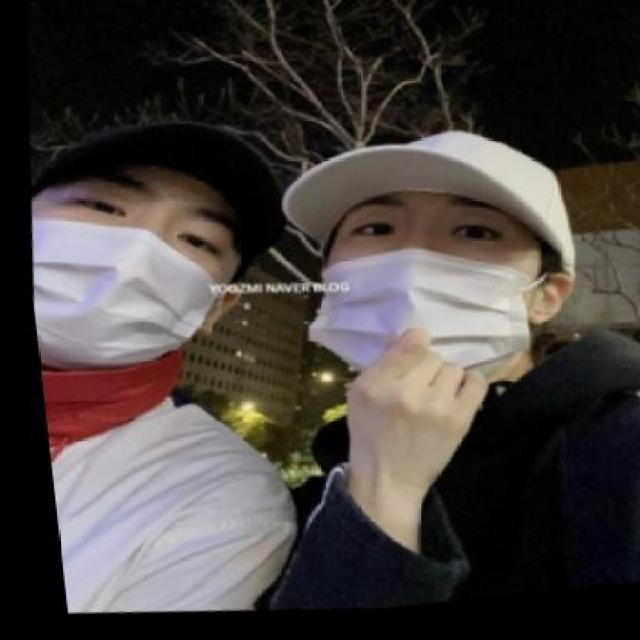hat: (258, 104, 587, 328), (21, 96, 301, 296)
